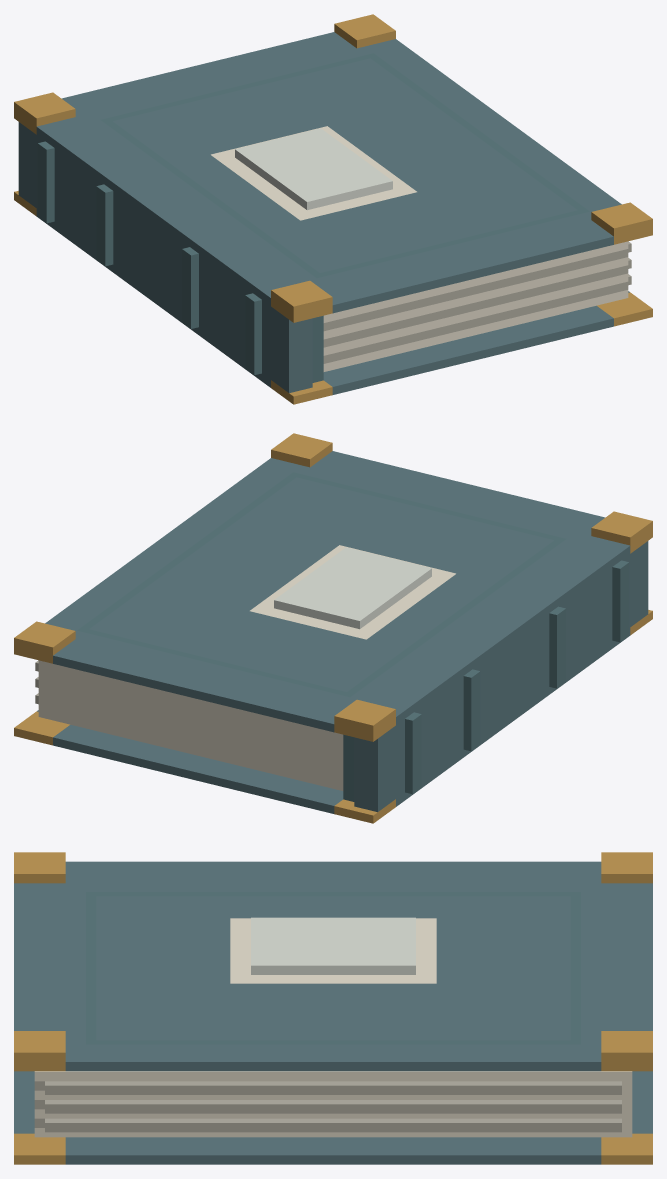
The model's file is LIFE-106.glb.
3 views of the same model, one above another, from view 1: azimuth 30°, elevation 25°; view 2: azimuth 150°, elevation 25°; view 3: azimuth 270°, elevation 25° (orthographic). The views are drawn at different scales.
Visible parts, largest first — view 1: 书册母版; view 2: 书册母版; view 3: 书册母版.
Boxes of the visible parts, left/top/right/bottom form: 书册母版: left=14, top=14, right=652, bottom=404; 书册母版: left=14, top=433, right=652, bottom=823; 书册母版: left=14, top=852, right=652, bottom=1164.
Size of the model in its own units: 0.235 by 0.06 by 0.31.
7 materials, 7 textured.
